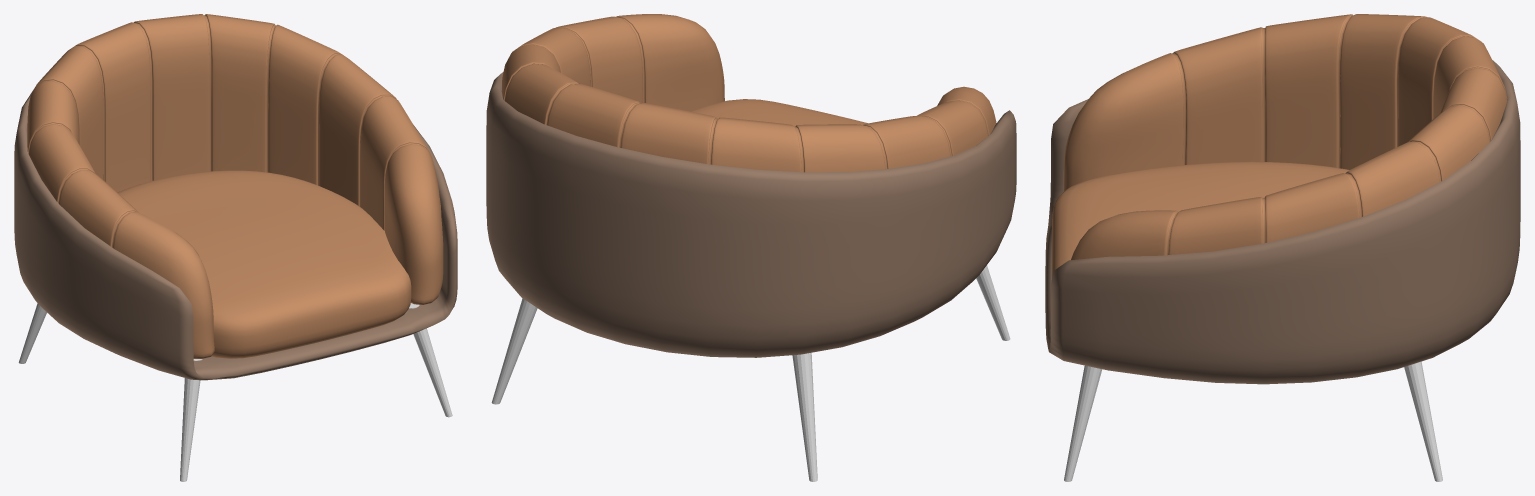
Rendered from SofaChair_1.glb.
3 views of the same model, side by side, from view 1: azimuth 30°, elevation 25°; view 2: azimuth 150°, elevation 25°; view 3: azimuth 270°, elevation 25° (orthographic). The views are drawn at different scales.
Visible parts, largest first — view 1: SofaChair_1; view 2: SofaChair_1; view 3: SofaChair_1.
Part boxes in pixels (x1=…): SofaChair_1: x1=14, y1=14, x2=457, y2=481; SofaChair_1: x1=486, y1=14, x2=1016, y2=481; SofaChair_1: x1=1045, y1=14, x2=1520, y2=481.
Size of the model in its own units: 0.9195 by 0.7125 by 0.9056.
